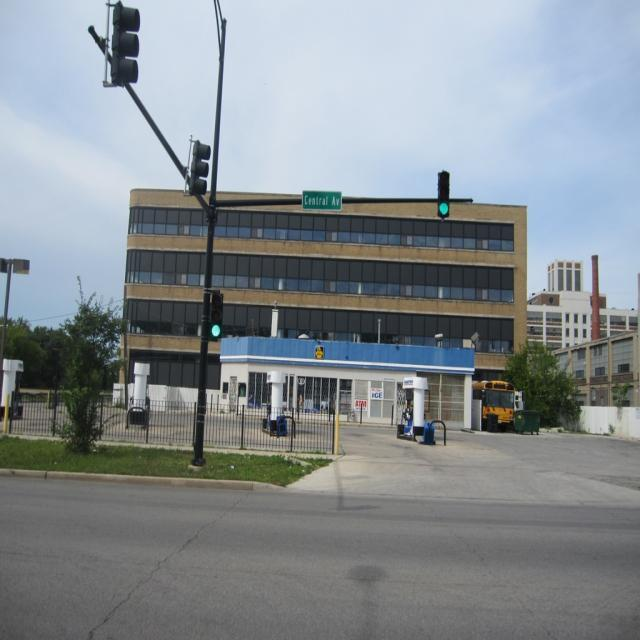off traffic light: (108, 0, 142, 92), (189, 137, 213, 196)
traffic light: (206, 292, 225, 346), (436, 169, 451, 221)
